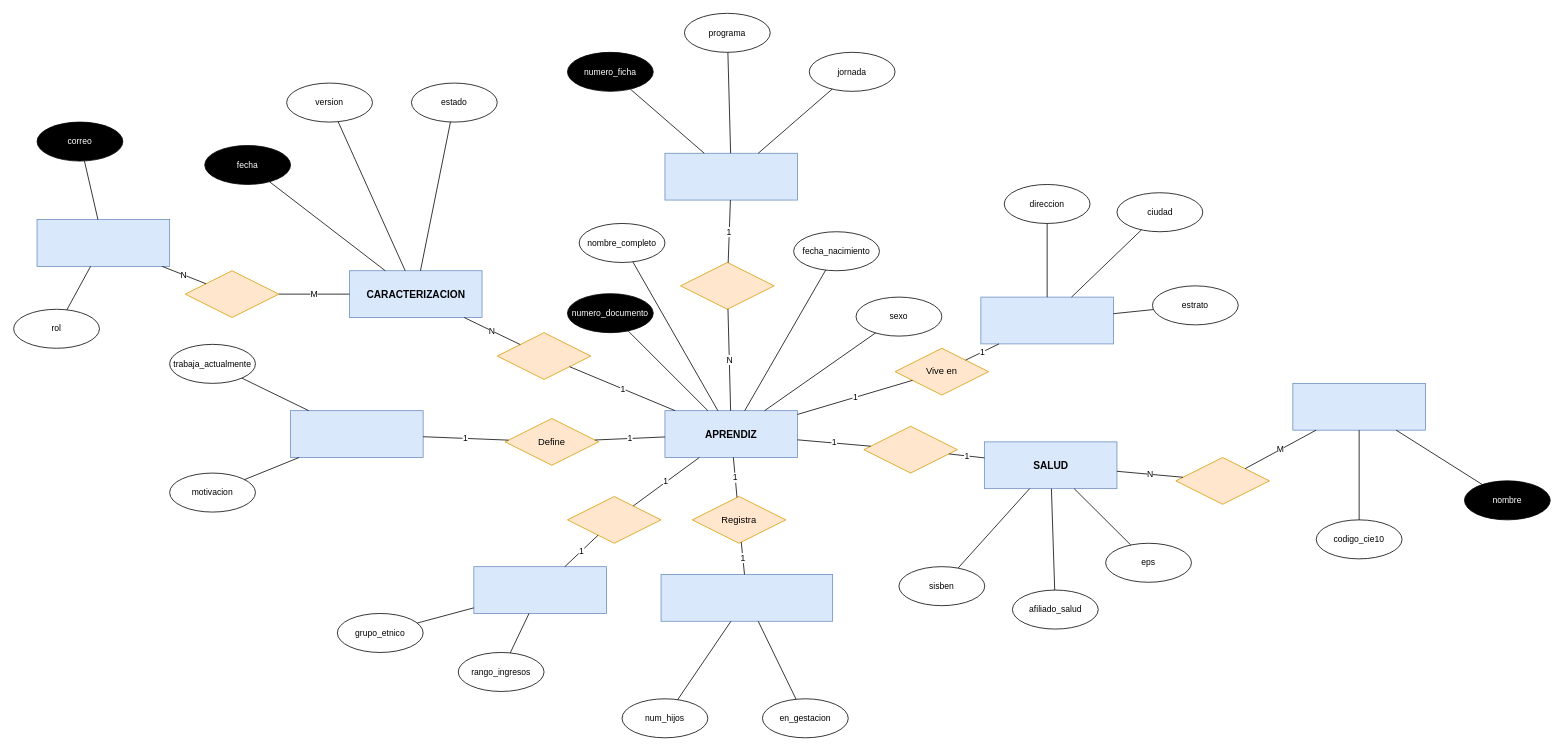
The diagram is 1564 pixels wide and 752 high, and some of its shapes have lost their labels. Here are the shapes that lost their labels. From the top down, the box of each, then its label:
(664, 152, 798, 200): FICHA
(36, 219, 170, 266): USUARIO
(184, 270, 279, 318): Consulta
(680, 262, 774, 309): Pertenece a
(980, 296, 1113, 344): LOCALIZACION
(496, 332, 591, 379): Diligencia
(1292, 383, 1425, 430): ENFERMEDAD
(290, 410, 423, 457): PERFIL_OCUPACIONAL
(863, 425, 957, 473): Presenta
(1175, 457, 1269, 504): Diagnosticada con
(567, 496, 661, 543): Reporta
(473, 566, 606, 613): SITUACION_ECONOMICA
(660, 574, 833, 621): SALUD_SEXUAL_REPRODUCTIVA
